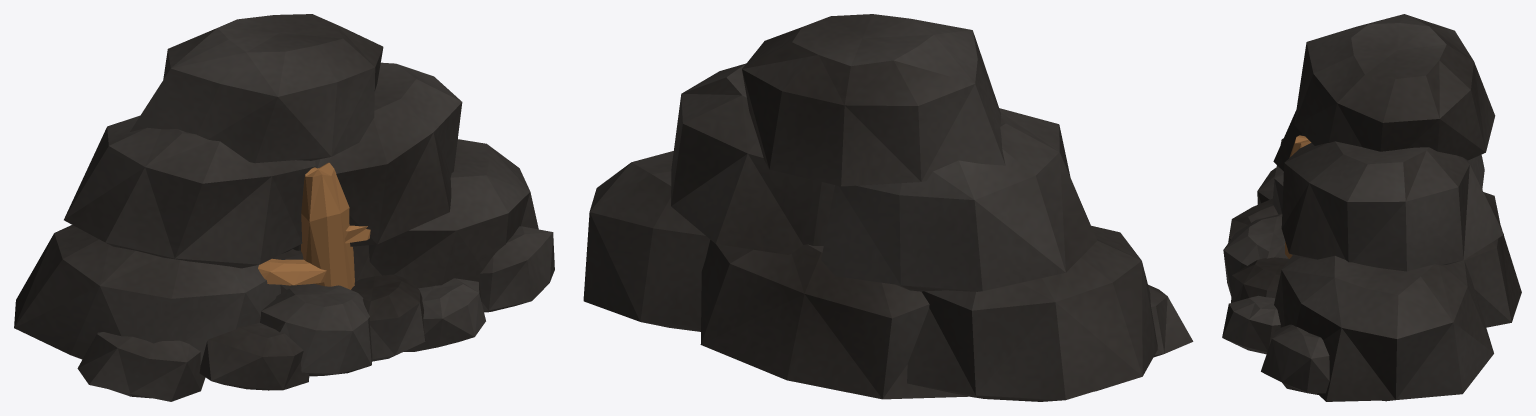
The model's file is DenseMineral_Deposit_B.glb.
The picture shows the model from 3 angles, left to right: view 1: azimuth 30°, elevation 25°; view 2: azimuth 150°, elevation 25°; view 3: azimuth 270°, elevation 25°; orthographic projection. The views are drawn at different scales.
Parts seen in each view (by area): view 1: DenseMineral_Deposit_B_LOD0; view 2: DenseMineral_Deposit_B_LOD0; view 3: DenseMineral_Deposit_B_LOD0.
Boxes of the visible parts, x1,y1,x2,y2 form: DenseMineral_Deposit_B_LOD0: (14, 14, 554, 401); DenseMineral_Deposit_B_LOD0: (583, 14, 1193, 401); DenseMineral_Deposit_B_LOD0: (1222, 14, 1521, 401).
Size of what is drawn, in the model's own units: 4.16 by 2.29 by 2.32.
2 materials, 1 textured.
